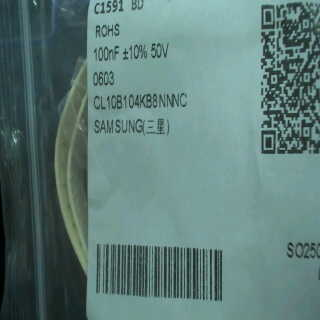100nF: (93, 41, 122, 64)
